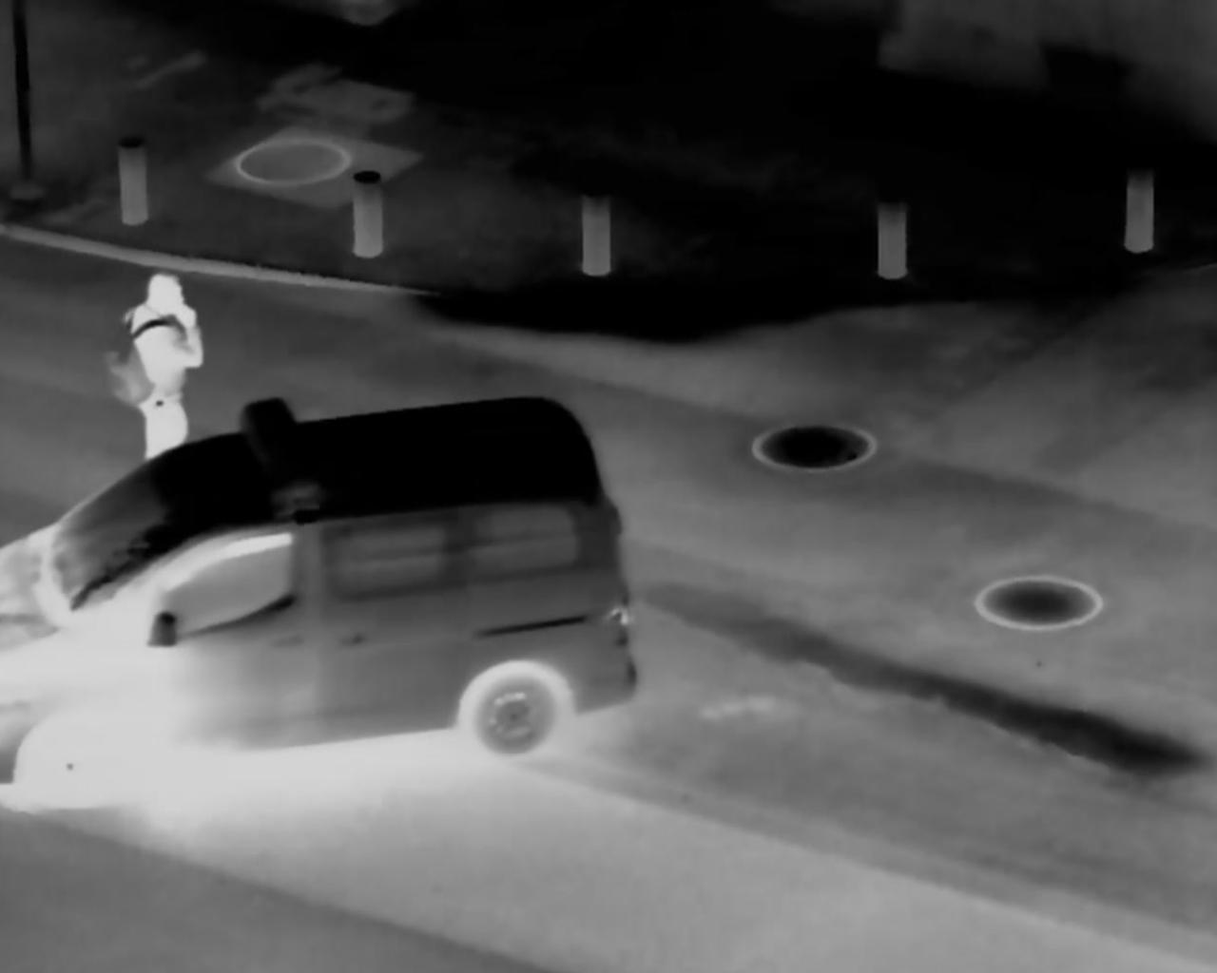person: (99, 265, 213, 462)
